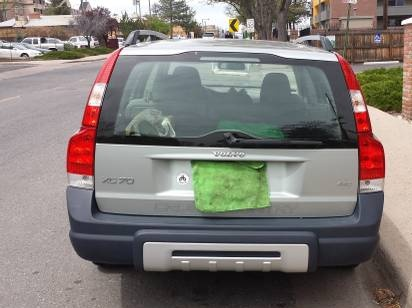volvo: (39, 23, 401, 281)
